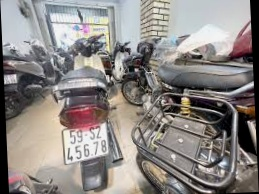Bien-so: (53, 112, 104, 156), (0, 63, 11, 74)
